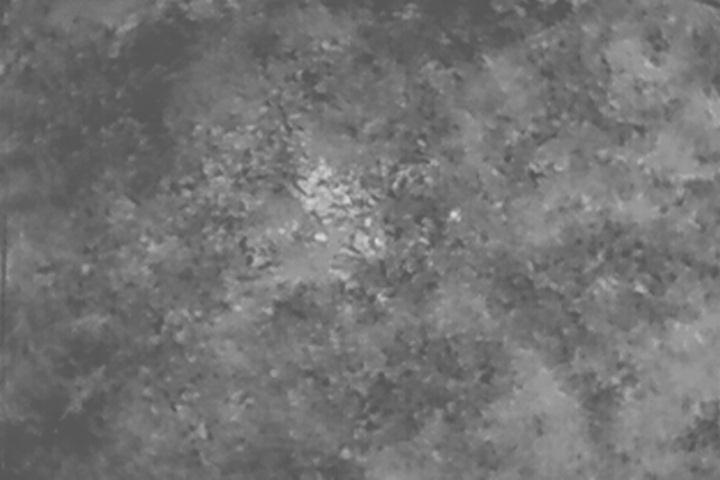landmine: (293, 162, 347, 211)
